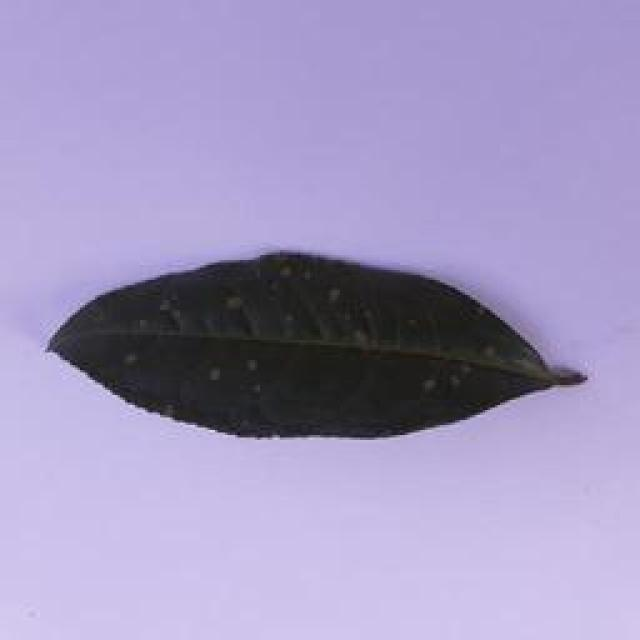Algal Leaf Spot: (45, 235, 597, 460)
